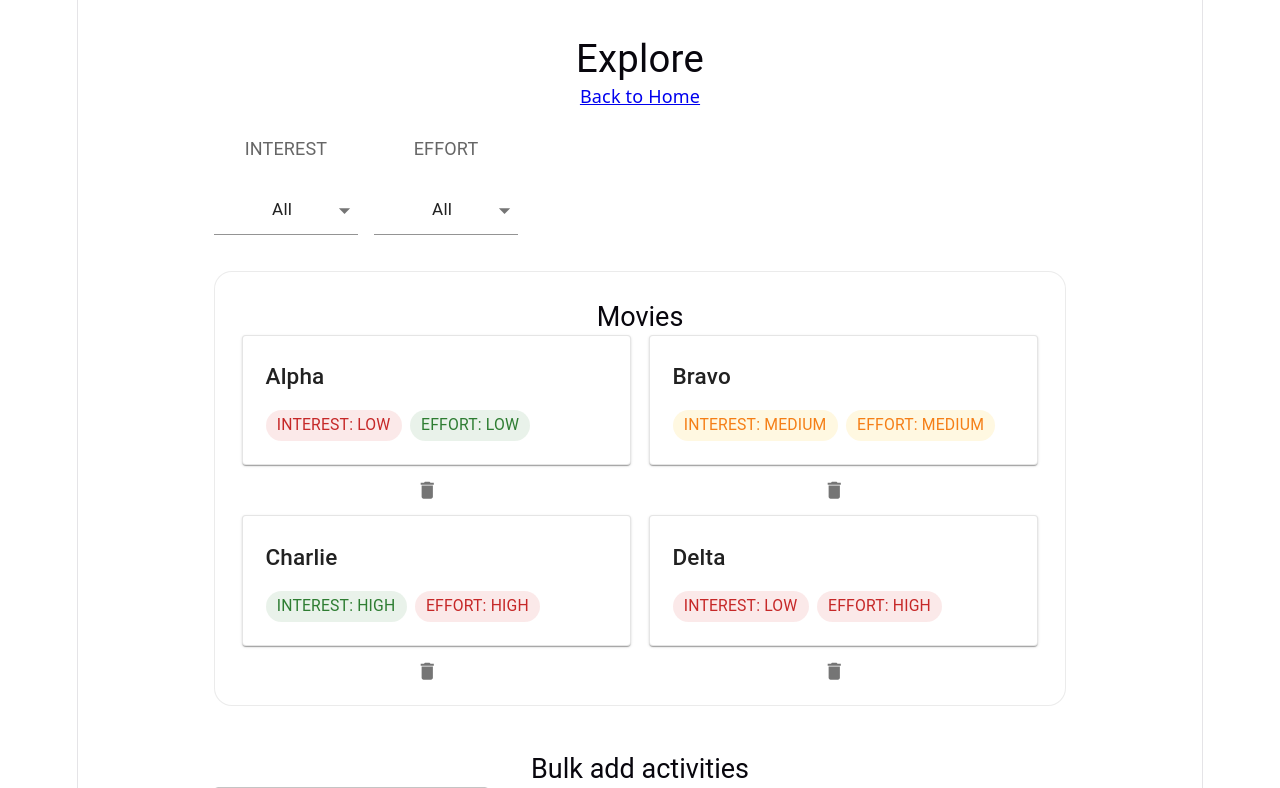
Scenario: ExplorePage › deletes an activity and removes it from the list
Check: the heading "Alpha" is shown, box [266, 363, 324, 389]
Click the button named "Delete Bravo": click(835, 490) [818, 474, 851, 506]
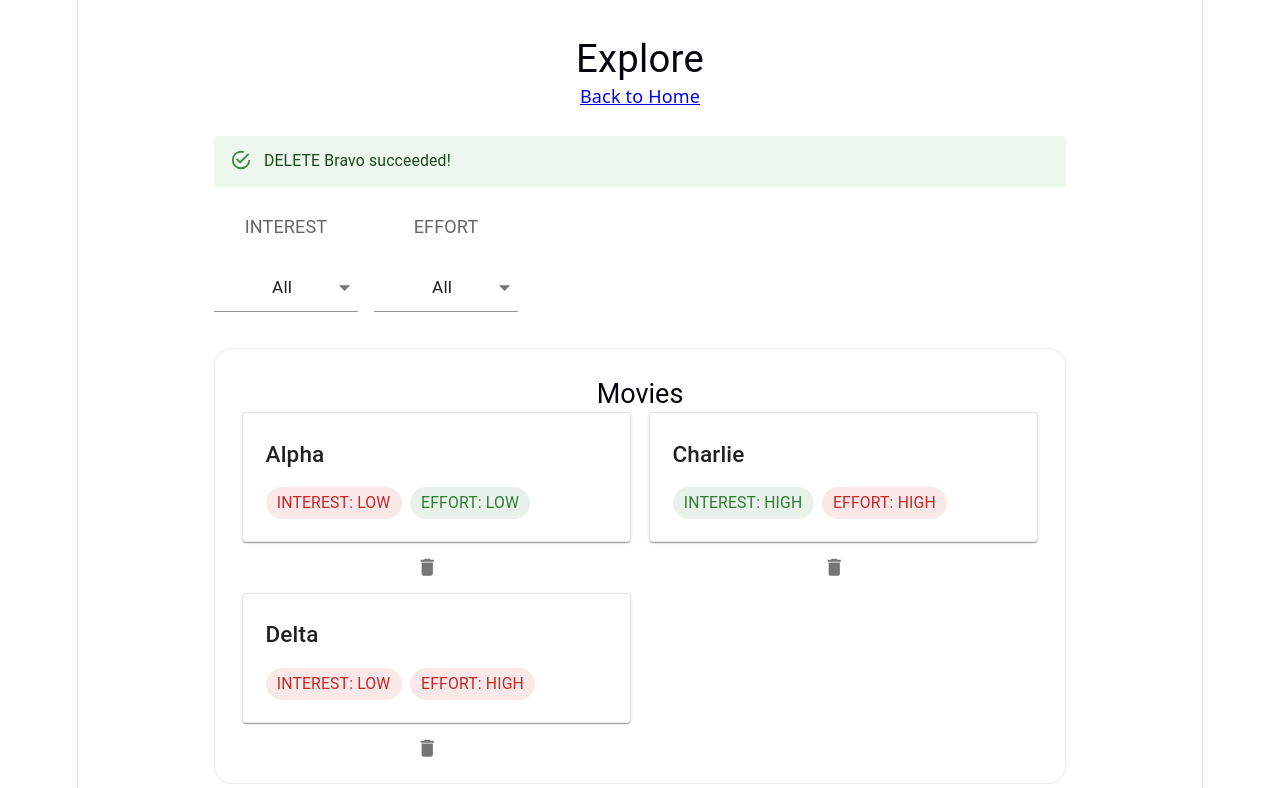
Check: the heading "Alpha" is shown, box [266, 441, 324, 467]
Check: the text "DELETE Bravo succeeded!" is shown, box [264, 151, 451, 170]
